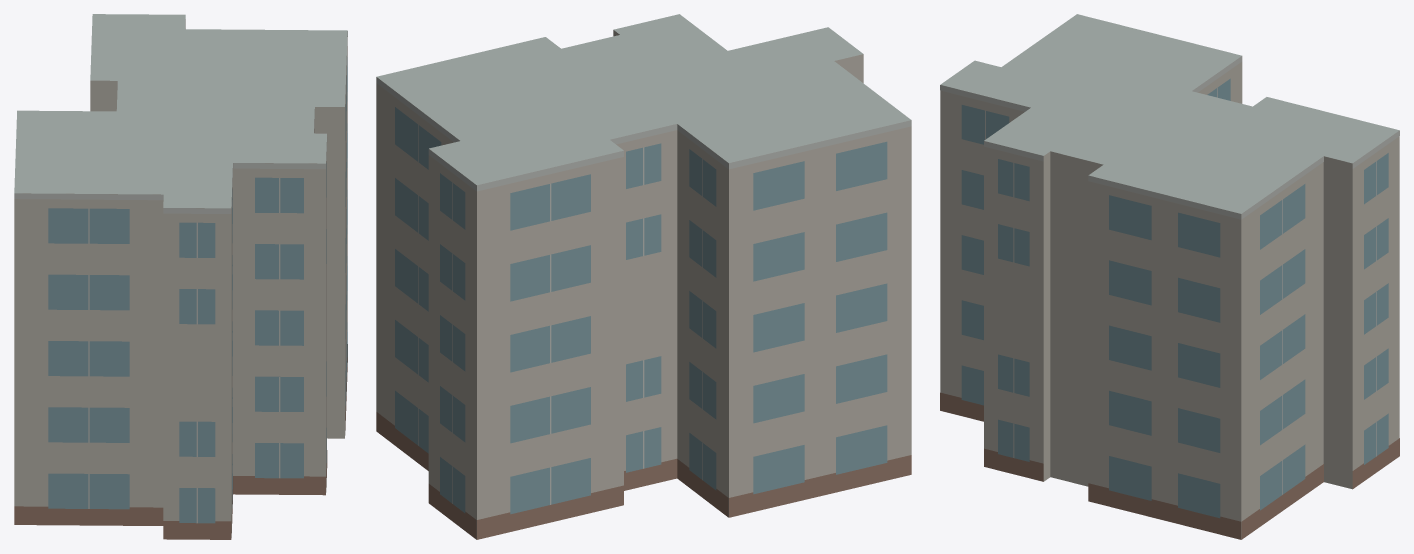
File: survey-upis-33010641.glb
3 renders of one model, left to right at view 1: azimuth 30°, elevation 25°; view 2: azimuth 150°, elevation 25°; view 3: azimuth 270°, elevation 25°, orthographic. The views are drawn at different scales.
Visible parts, largest first — view 1: survey-upis-33010641.tmp; view 2: survey-upis-33010641.tmp; view 3: survey-upis-33010641.tmp.
Part boxes in pixels (x1,y1,x2,y2): survey-upis-33010641.tmp: (14,14,347,539); survey-upis-33010641.tmp: (376,14,911,539); survey-upis-33010641.tmp: (940,14,1399,539).
Bounding box in the file's own units: 18.37 × 13.95 × 17.84.
